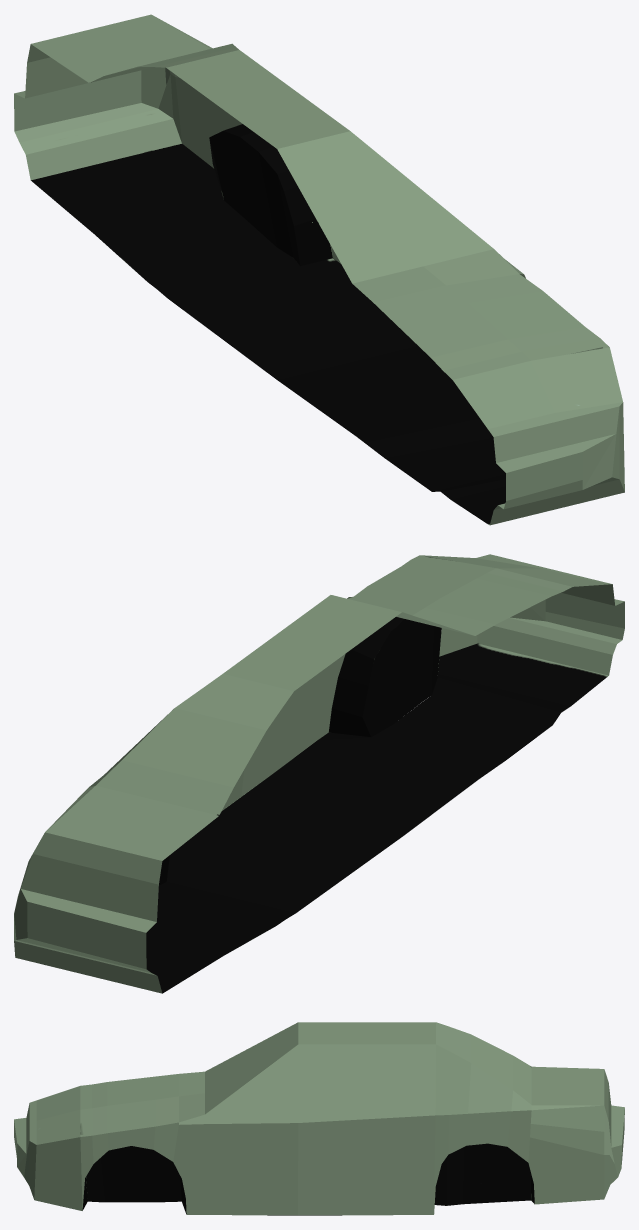
The model's file is car_v4.glb.
3 views of the same model, one above another, from view 1: azimuth 30°, elevation 25°; view 2: azimuth 150°, elevation 25°; view 3: azimuth 270°, elevation 25° (orthographic). The views are drawn at different scales.
Parts seen in each view (by area): view 1: Plane; view 2: Plane; view 3: Plane.
Boxes of the visible parts, x1,y1,x2,y2 form: Plane: (14, 14, 624, 525); Plane: (14, 554, 624, 993); Plane: (14, 1022, 624, 1215).
Bounding box in the file's own units: 0.8159 × 1.09 × 4.2.
1 material, 1 textured.
